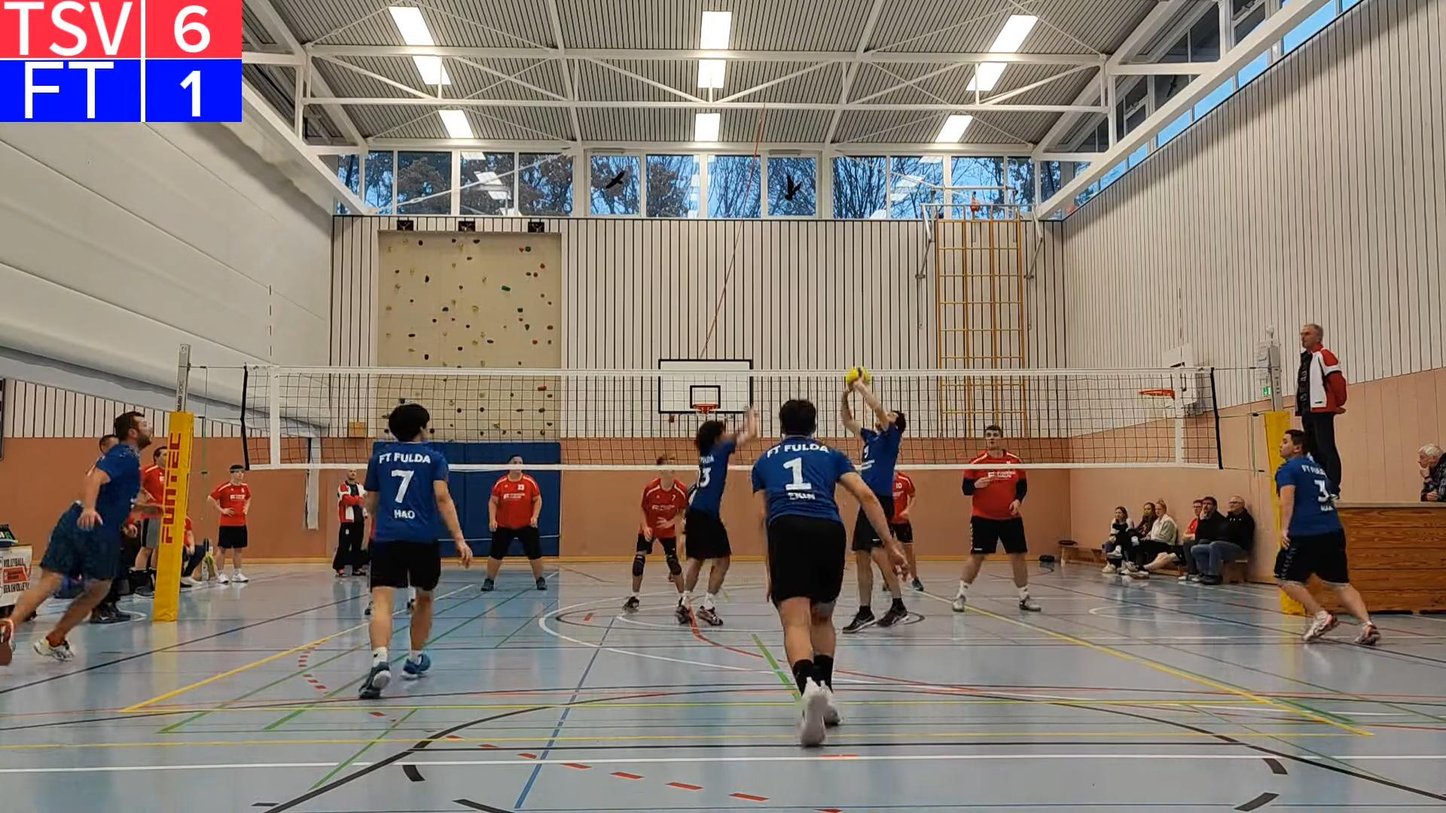alzata: (840, 383, 911, 644)
